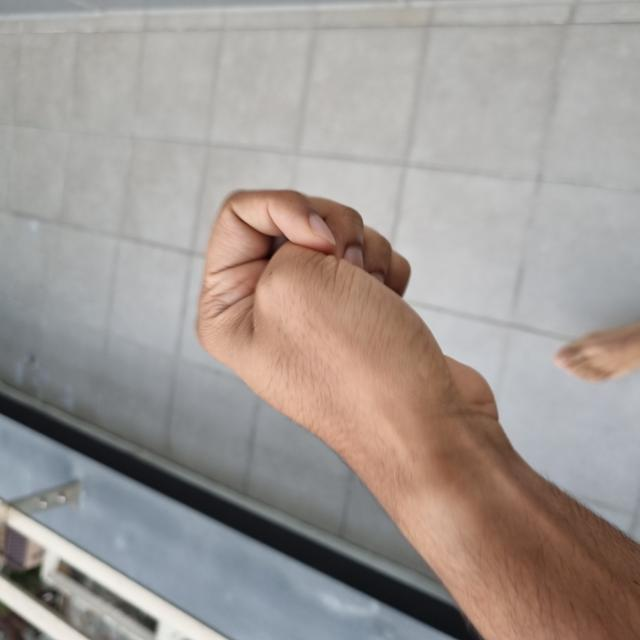Rock: (138, 199, 453, 501)
